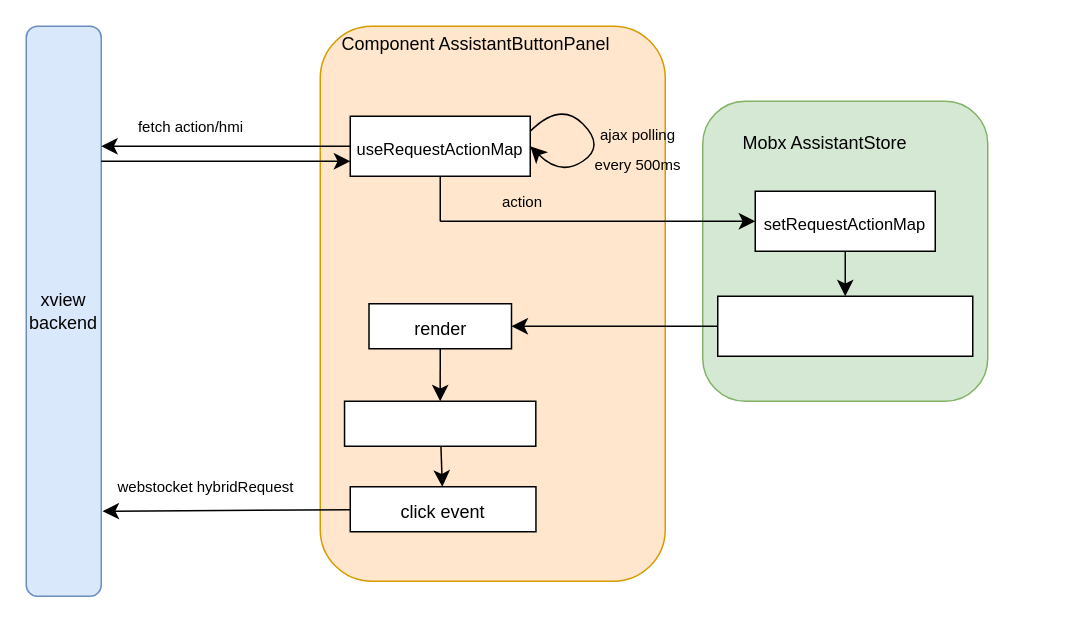
This 1082x623 diagram has some shape labels left out. The centre of each missing label's shape, as x and y in pixels:
"@computed requestActionMap" belongs at point 844,325.
"hybridButtonPanel" belongs at point 439,423.
